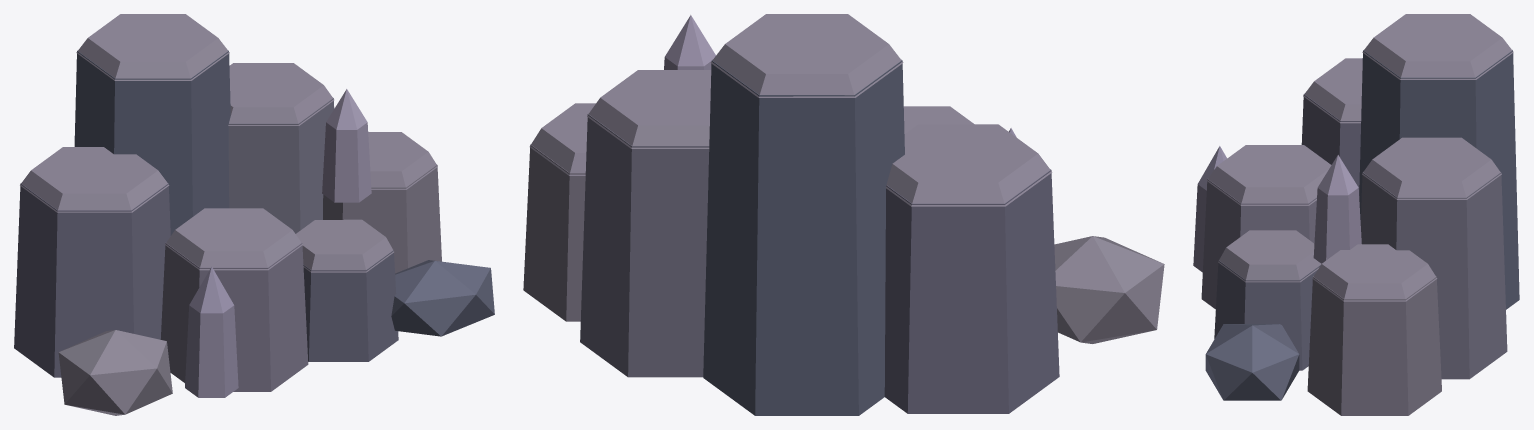
Rendered from xingyin-environment-v2__dragon_basalt_cluster.glb.
3 renders of one model, left to right at view 1: azimuth 30°, elevation 25°; view 2: azimuth 150°, elevation 25°; view 3: azimuth 270°, elevation 25°, orthographic. The views are drawn at different scales.
Visible parts, largest first — view 1: dragon_basalt_cluster; view 2: dragon_basalt_cluster; view 3: dragon_basalt_cluster.
Part boxes in pixels (x1=…): dragon_basalt_cluster: x1=14, y1=14, x2=494, y2=415; dragon_basalt_cluster: x1=523, y1=14, x2=1164, y2=415; dragon_basalt_cluster: x1=1193, y1=14, x2=1519, y2=415.
Bounding box in the file's own units: 2.39 × 1.48 × 1.6.
